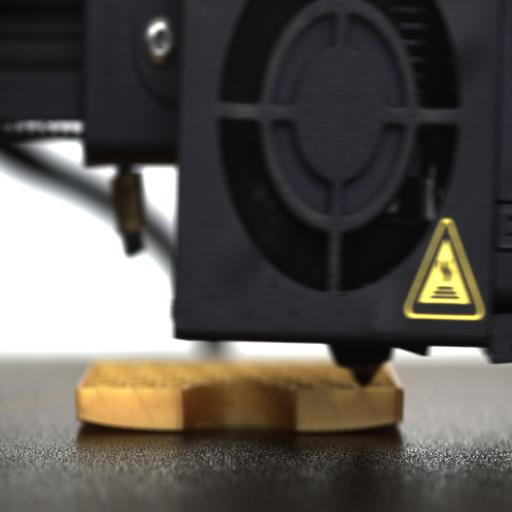warp: (339, 405, 409, 443), (71, 404, 140, 438)
